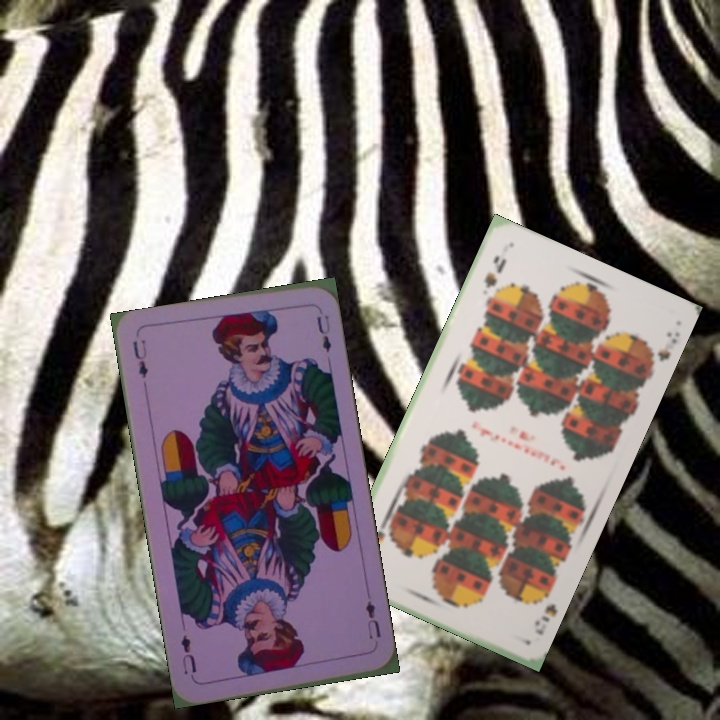EU: (361, 596, 384, 642), (128, 335, 151, 381)
S9: (530, 584, 555, 638), (480, 251, 509, 292)
